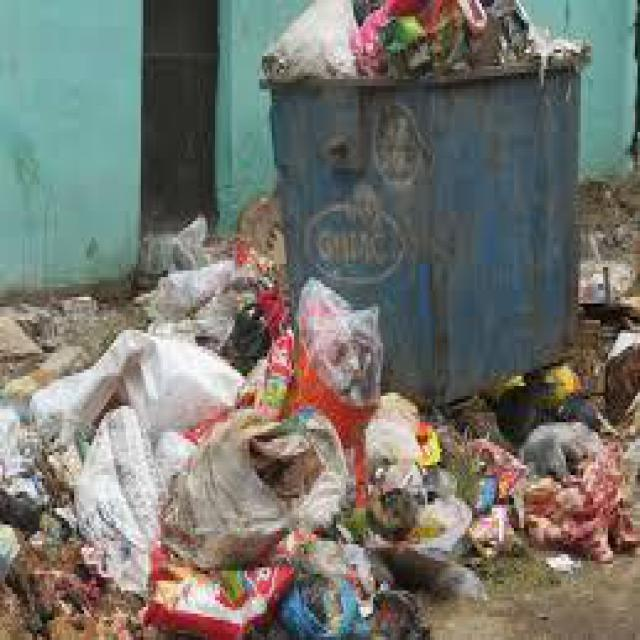garbage: (0, 238, 462, 636), (452, 333, 638, 574), (262, 0, 593, 79)
